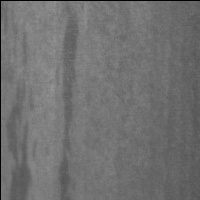inclusion: (54, 6, 82, 200), (6, 80, 33, 200), (2, 2, 28, 85)
